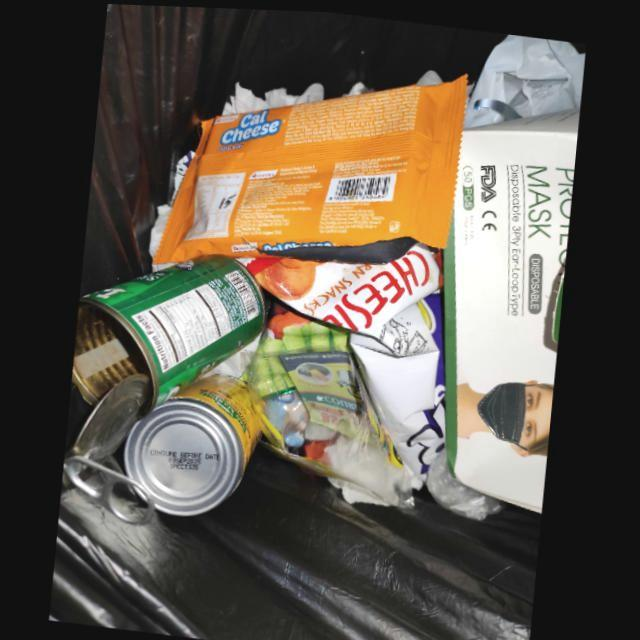aluminum: (65, 252, 265, 459), (125, 371, 263, 514)
cardboard: (445, 101, 581, 508)
food_wrapper: (154, 70, 468, 262), (238, 239, 447, 478)
plastic_sachet: (278, 349, 367, 432)
